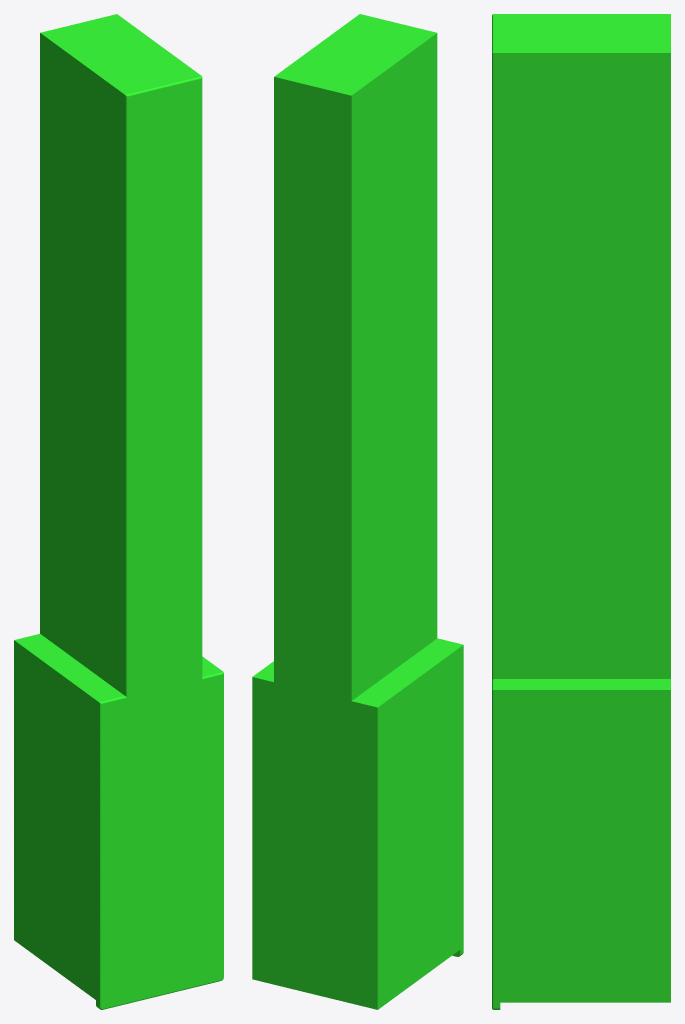
Rendered from Kbdnatd.obj.
3 views of the same model, side by side, from view 1: azimuth 30°, elevation 25°; view 2: azimuth 150°, elevation 25°; view 3: azimuth 270°, elevation 25° (orthographic). The views are drawn at different scales.
Parts seen in each view (by area): view 1: Kbdnatd; view 2: Kbdnatd; view 3: Kbdnatd.
Part boxes in pixels (box(x1,y1,x2,y2)): Kbdnatd: box(14, 14, 223, 1009); Kbdnatd: box(252, 14, 463, 1009); Kbdnatd: box(492, 14, 670, 1009).
Size of the model in its own units: 0.1535 by 1.07 by 0.1833.
